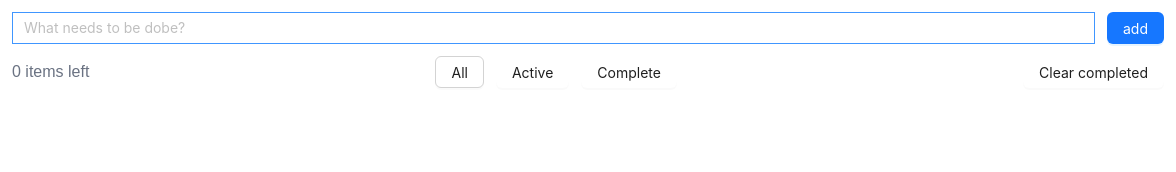
Test case: Todos component › Удаление задачи
Step 1. Type "check me" into the field → [554, 28], box [12,12,1095,44]
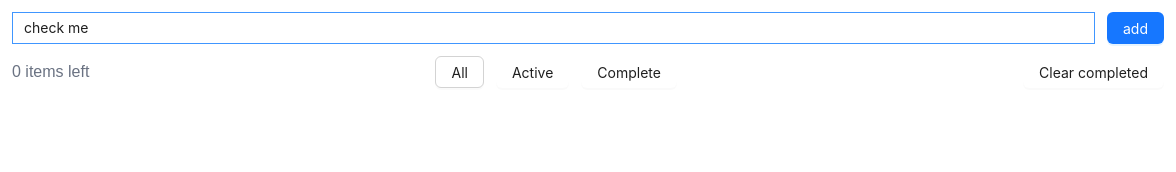
Step 2. Click the button "add" → [1136, 28], box [1107,12,1164,44]
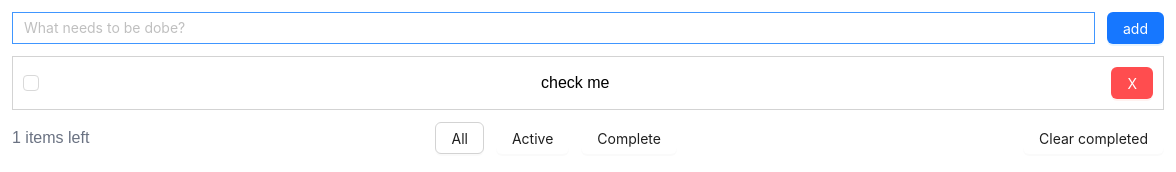
Check: the field is empty, box [12,12,1095,44]
Check: the heading "check me" is shown, box [541,71,610,95]
Check: the button "X" is shown
Step 3. Click the button "X" → [1132, 83], box [1111,67,1153,99]
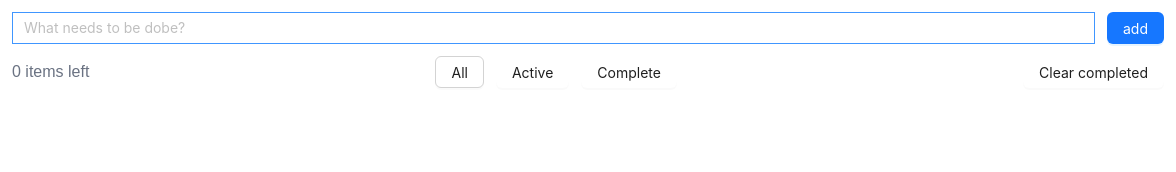
Check: the heading "check me" is gone
